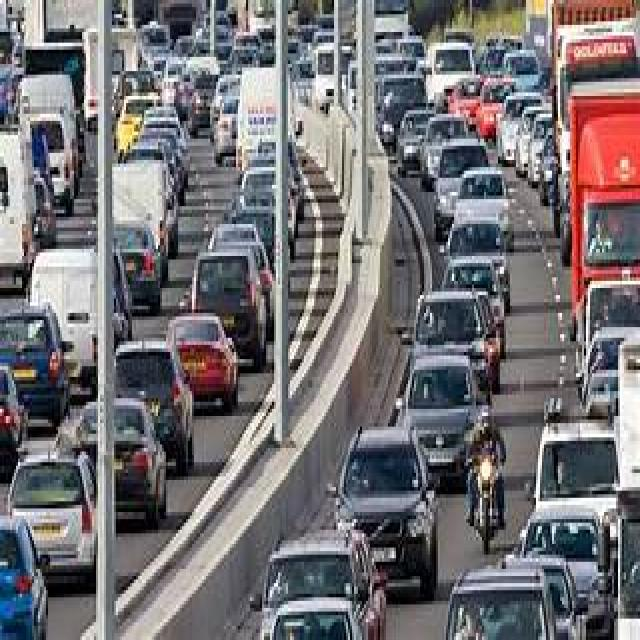Car: (262, 111, 509, 639), (116, 244, 265, 528), (0, 458, 95, 634)
Truck: (570, 80, 640, 326)
Two Wheeler: (478, 456, 495, 552)
